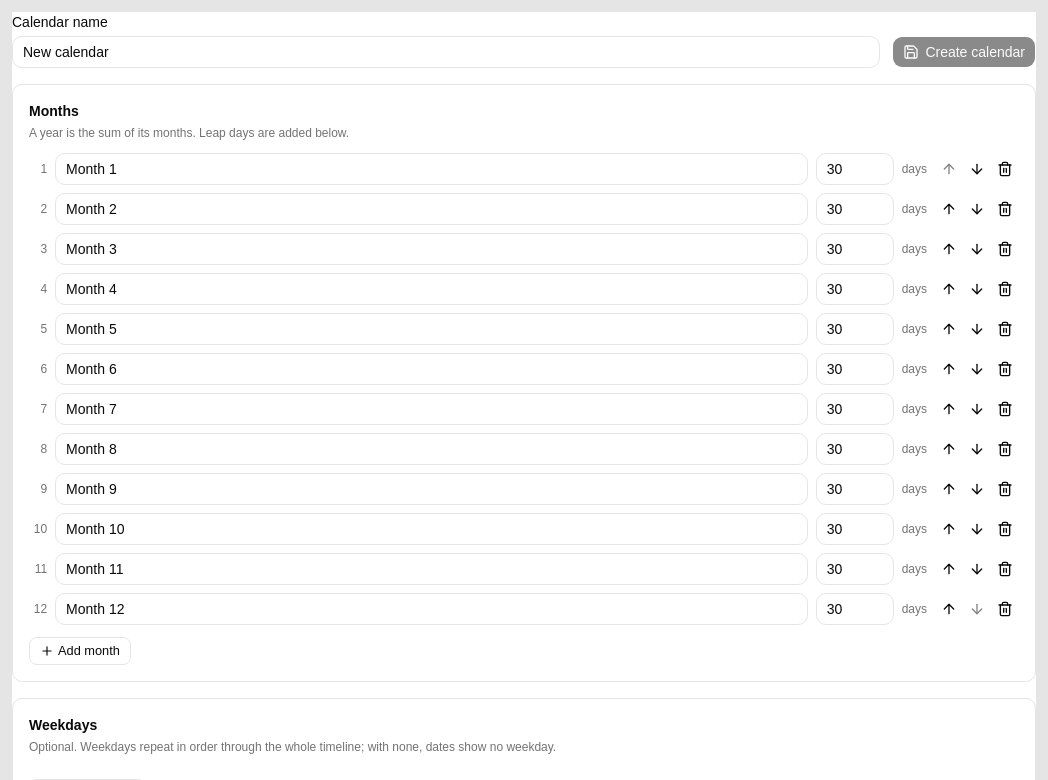
Test: CalendarEditor › shows save errors from the backend on the matching field
Replace the text in the field labelled "Calendar name" with "Standard". click: coordinates (446, 52)
box: [12, 36, 880, 68]
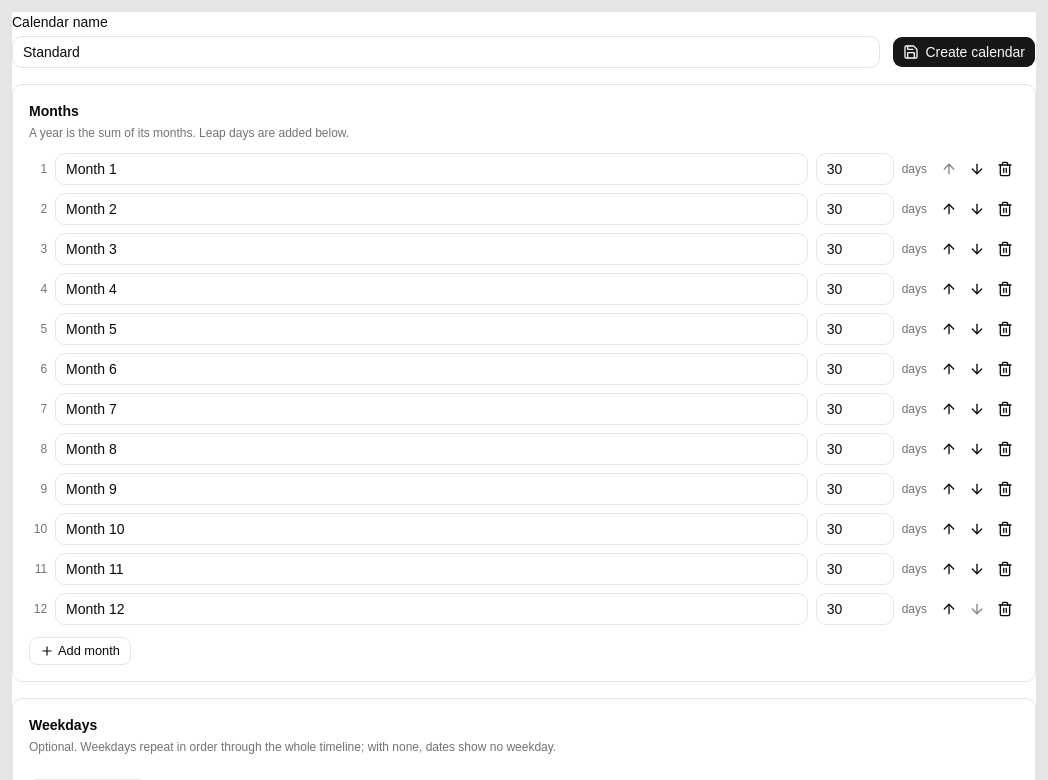
Click the button "Create calendar". click: coordinates (964, 52)
box: [892, 36, 1036, 68]
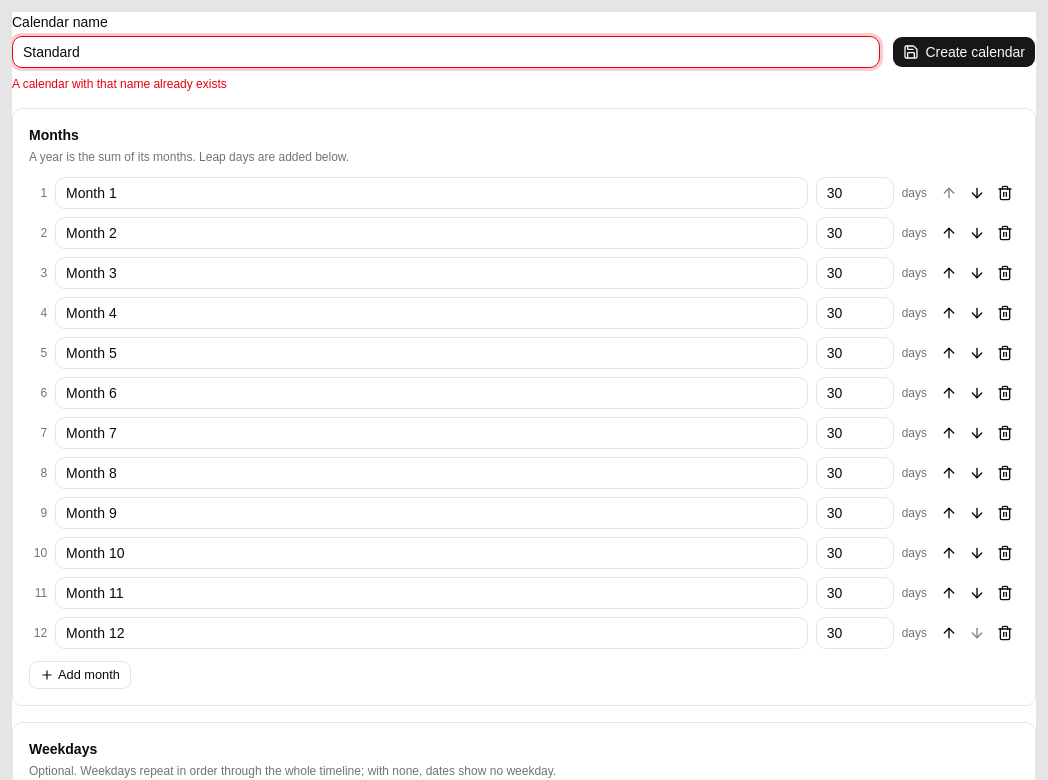
Result: the text "A calendar with that name already exists" is shown at [12, 77, 227, 91]
